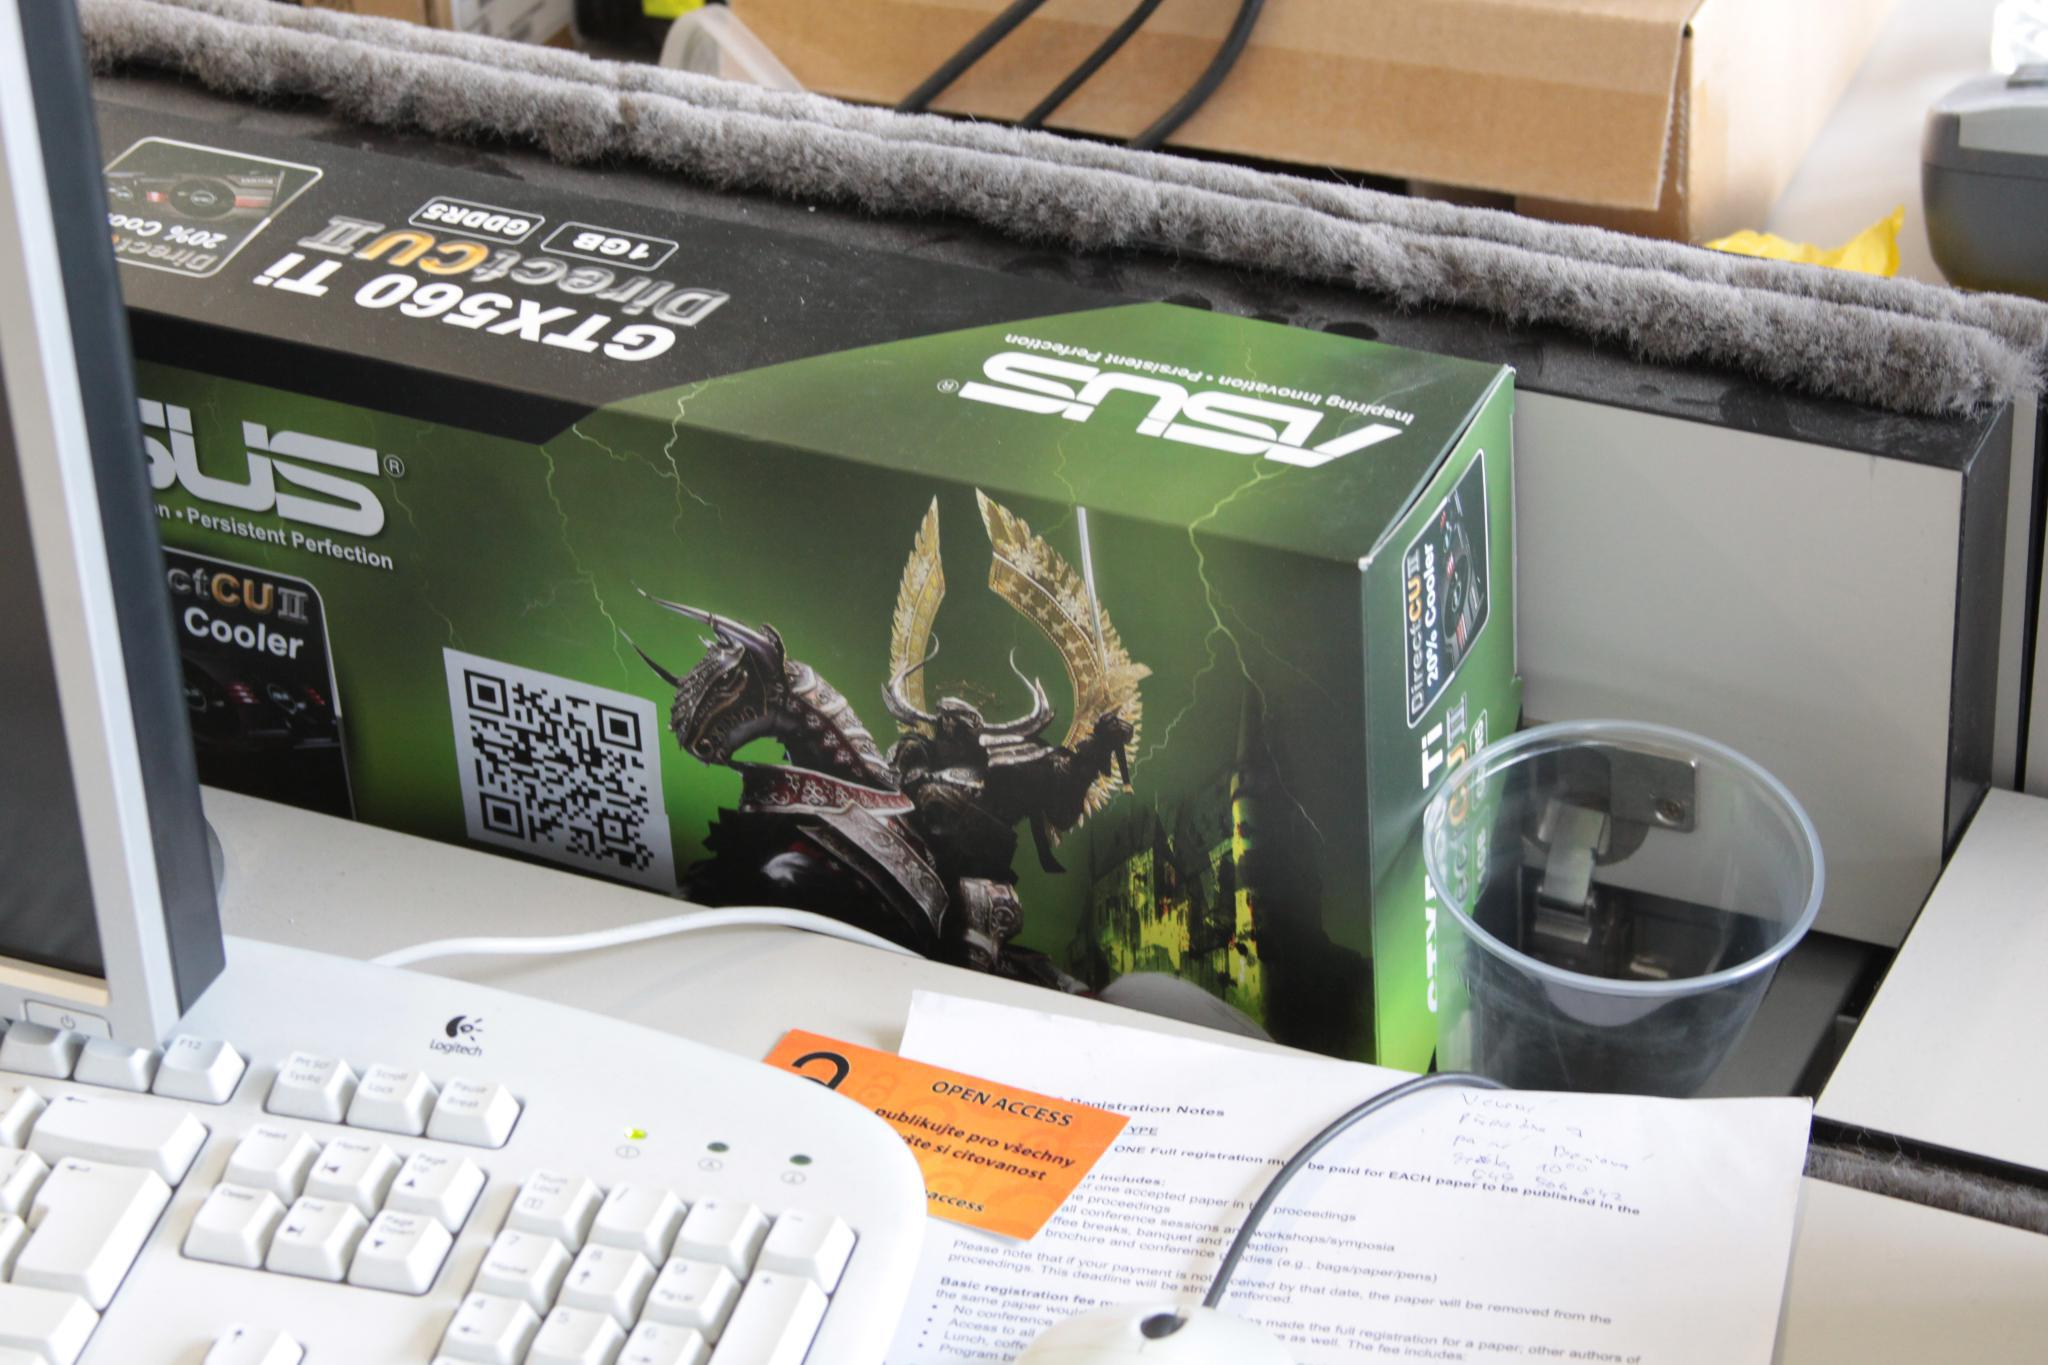Finder pattern: (475, 782, 530, 842), (594, 696, 649, 756), (458, 663, 515, 719)
